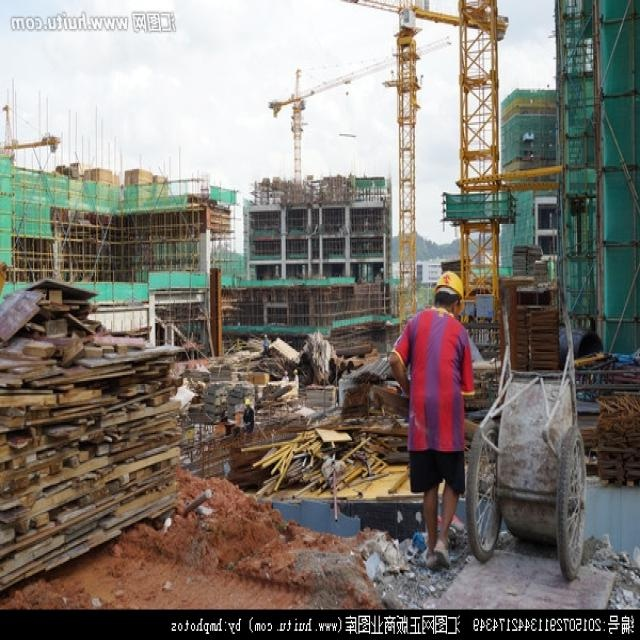Con_Casco: (432, 269, 464, 312)
